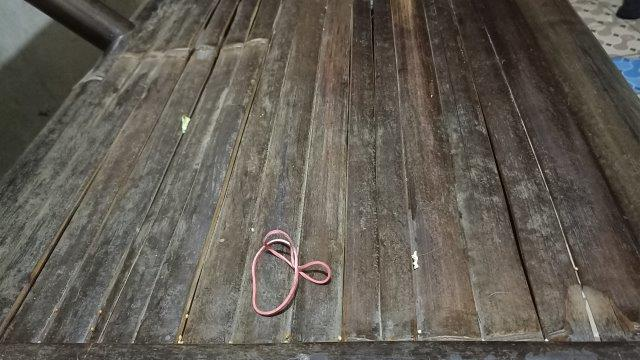karet: (252, 230, 331, 316)
